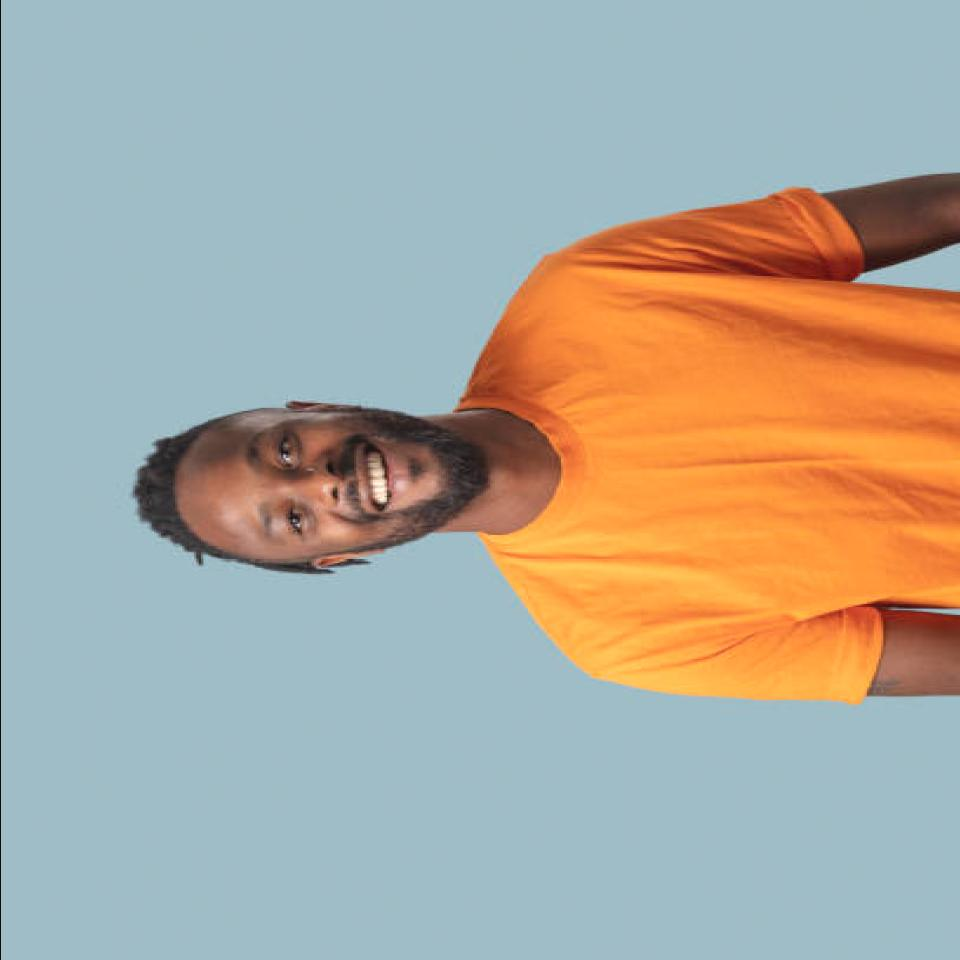Happiness: (208, 396, 463, 563)
